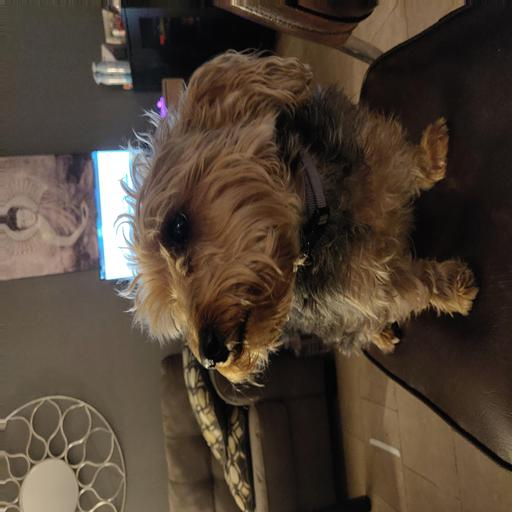dog: (105, 46, 439, 380)
